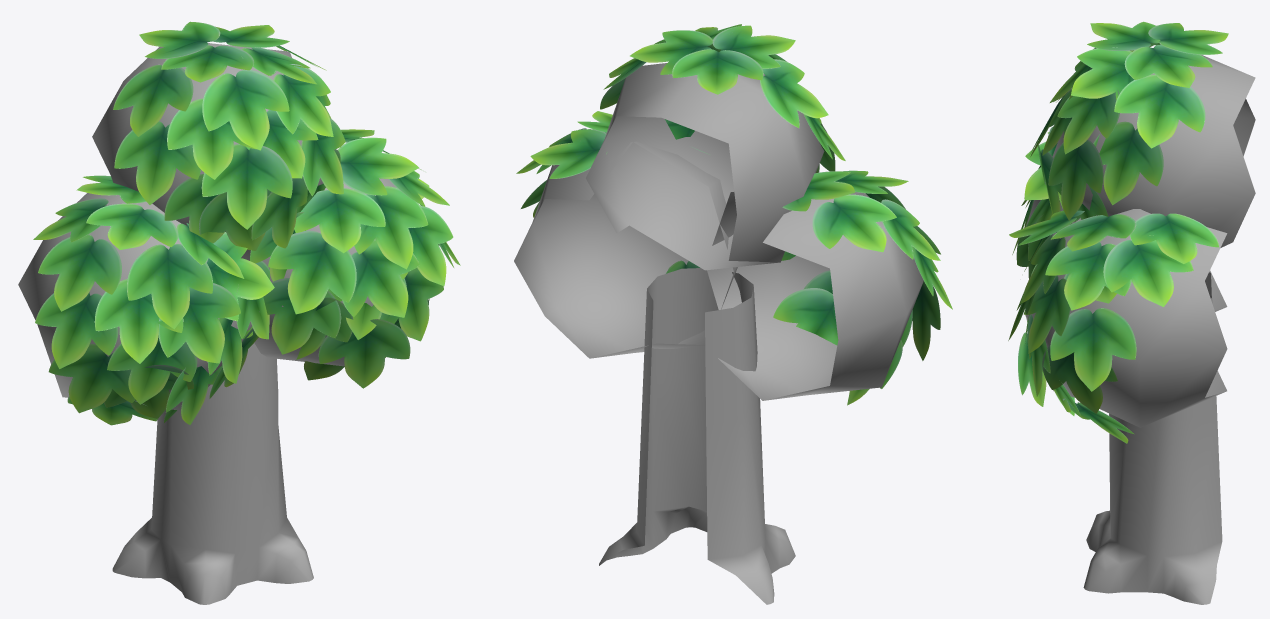
The model's file is SM_Tree.fbx.
3 renders of one model, left to right at view 1: azimuth 30°, elevation 25°; view 2: azimuth 150°, elevation 25°; view 3: azimuth 270°, elevation 25°, orthographic.
Visible parts, largest first — view 1: SM_Tree; view 2: SM_Tree; view 3: SM_Tree.
Boxes of the visible parts, left/top/right/bottom form: SM_Tree: left=18, top=21, right=460, bottom=604; SM_Tree: left=514, top=24, right=952, bottom=604; SM_Tree: left=1008, top=21, right=1255, bottom=604.
Size of the model in its own units: 1745 by 2043 by 932.
